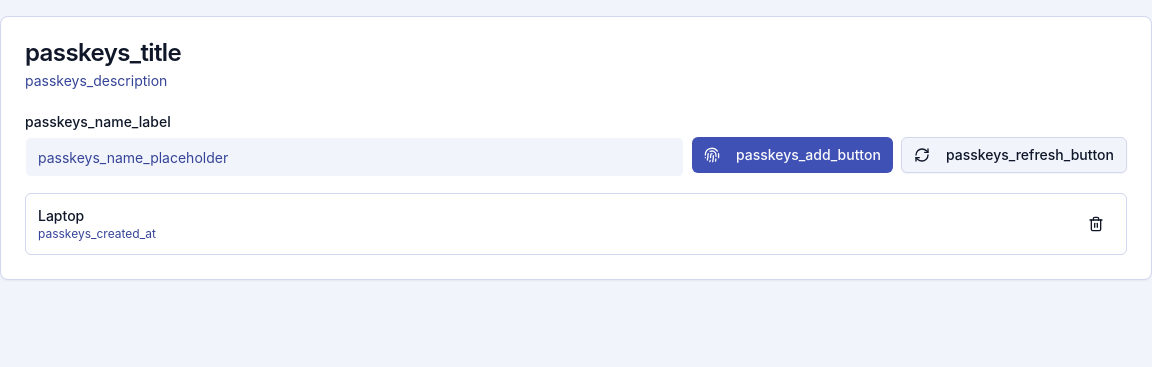
PasskeySettingsCard › shows the delete error
Step 1. Click the button named "passkeys_delete_button" → (1096,224), box [1078, 206, 1114, 242]
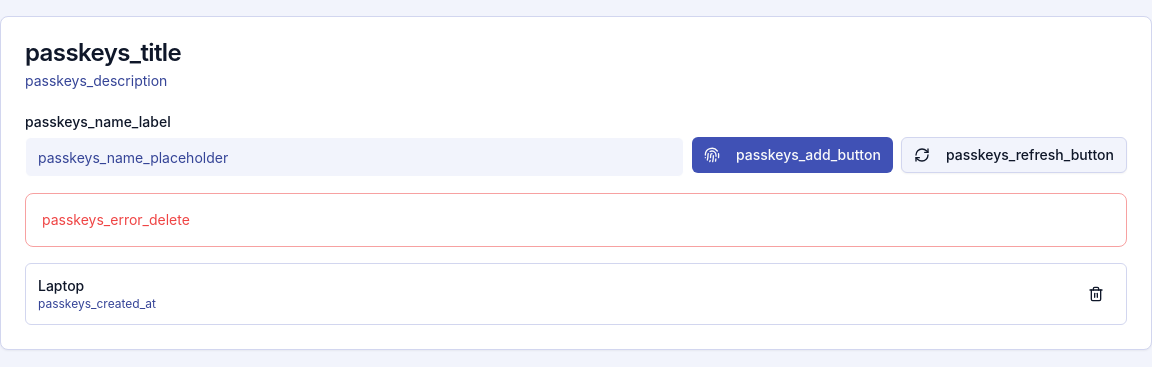
Now the text "passkeys_error_delete" is shown, box [42, 211, 190, 228]
